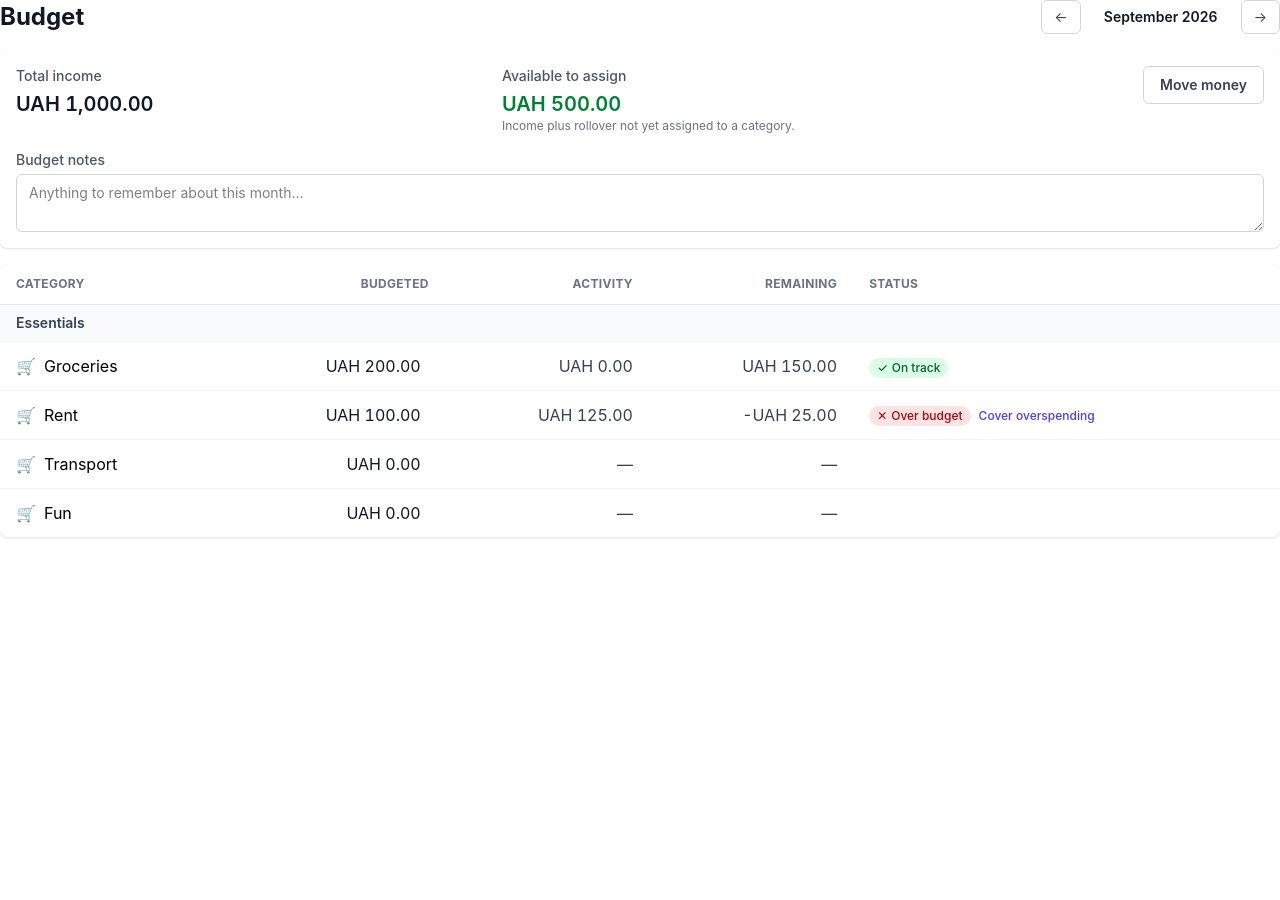
Test: BudgetPage › prefills the move dialog from the cover-overspending action
Click the button "Cover overspending" at {"x": 1037, "y": 416}, box [971,404,1103,428]
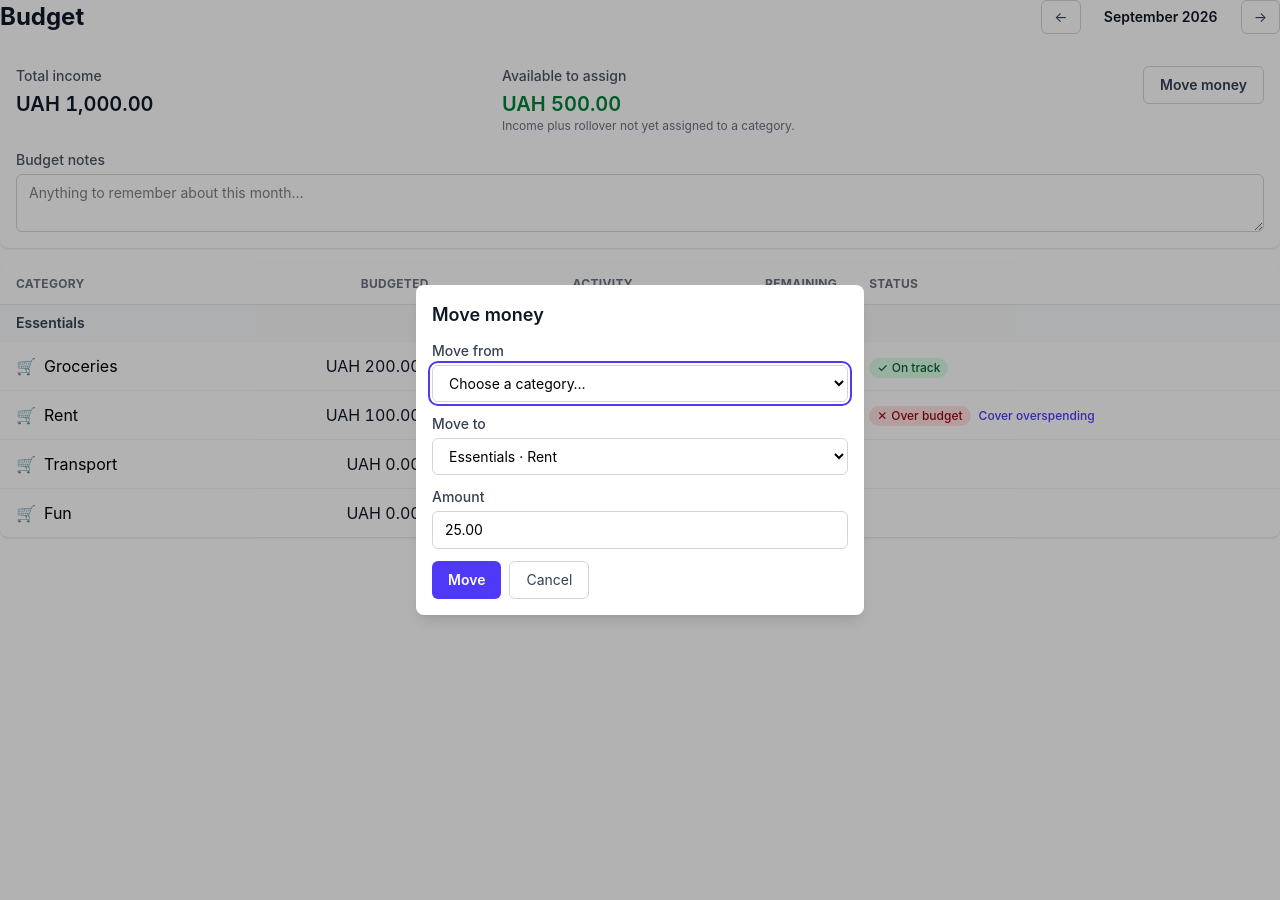
Now the dropdown labelled "Move to" shows "Essentials · Rent", box [432,438,848,475]
Now the field labelled "Amount" holds "25.00", box [432,511,848,549]
